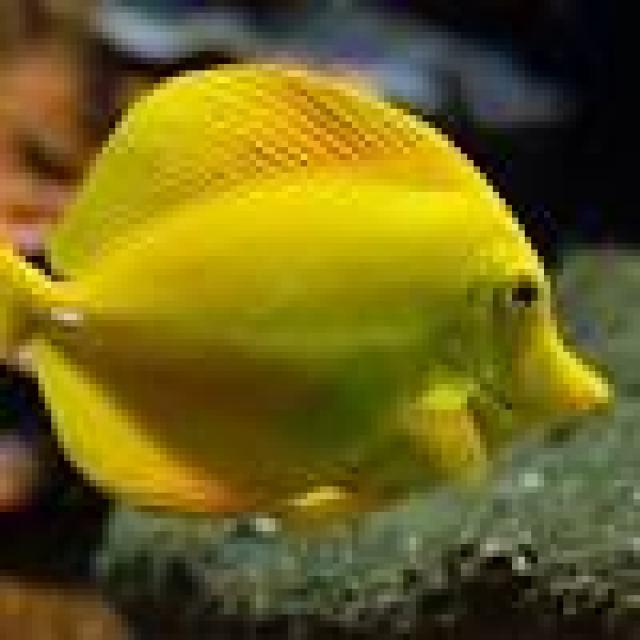YellowTang: (0, 45, 614, 525)
